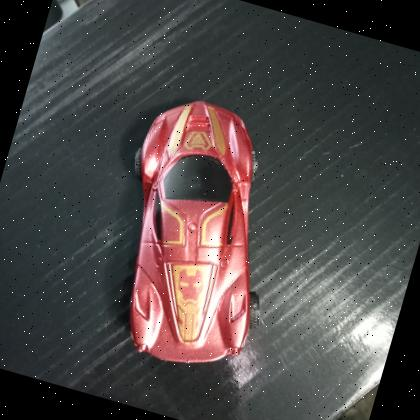Car: (74, 78, 322, 388)
